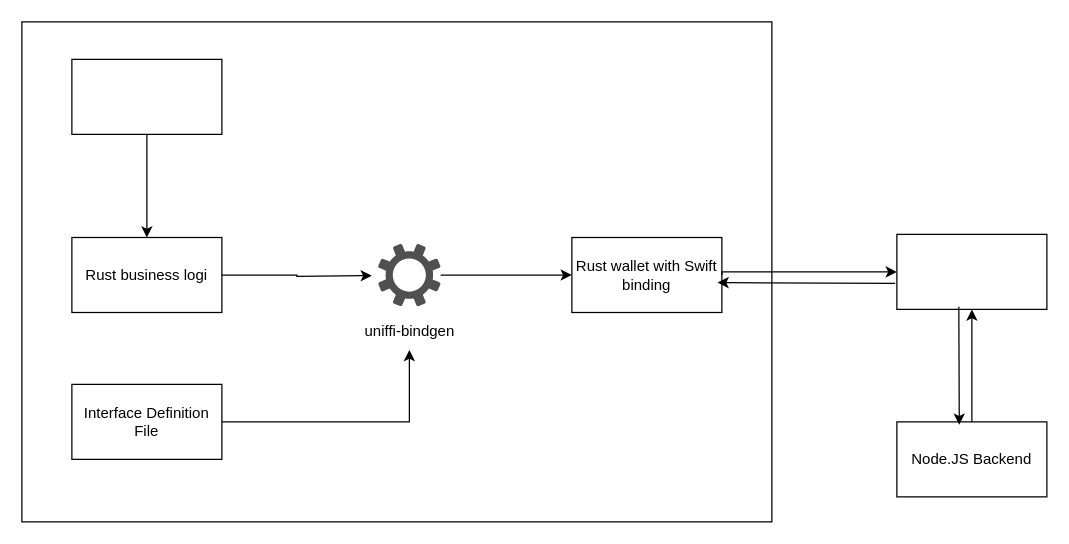
This 1069x544 diagram has some shape labels left out. The shapes that lost their labels are listed below. From the top down, each one's box as (x1, y1, x2, y2) in pixels, then its label:
(71, 58, 222, 134): Cardano Serialization Lib
(896, 233, 1047, 309): Swift UI App
